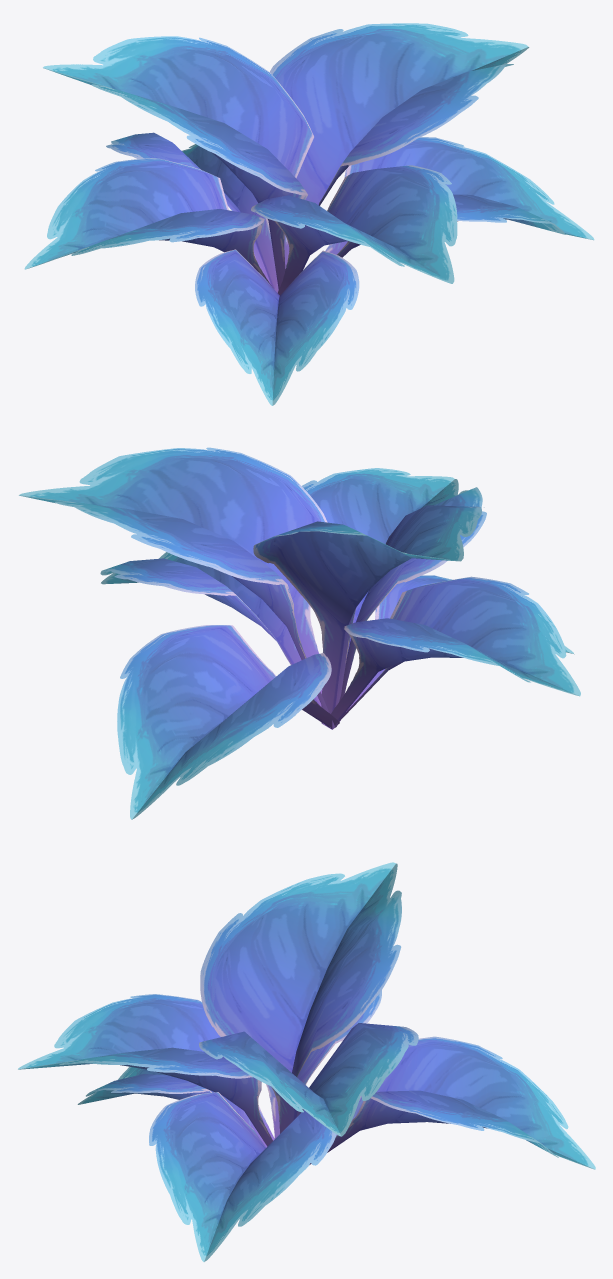
Rendered from SM_ENV_plant_ancient_04_03.fbx.
3 renders of one model, top to bottom at view 1: azimuth 30°, elevation 25°; view 2: azimuth 150°, elevation 25°; view 3: azimuth 270°, elevation 25°, orthographic. The views are drawn at different scales.
Visible parts, largest first — view 1: SM_ENV_plant_ancient_04_03_LOD0; view 2: SM_ENV_plant_ancient_04_03_LOD0; view 3: SM_ENV_plant_ancient_04_03_LOD0.
Part boxes in pixels (box(x1,y1,x2,y2)): SM_ENV_plant_ancient_04_03_LOD0: box(24, 23, 594, 405); SM_ENV_plant_ancient_04_03_LOD0: box(19, 447, 580, 819); SM_ENV_plant_ancient_04_03_LOD0: box(18, 862, 595, 1261).
Size of the model in its own units: 76.29 by 36.28 by 77.79.
